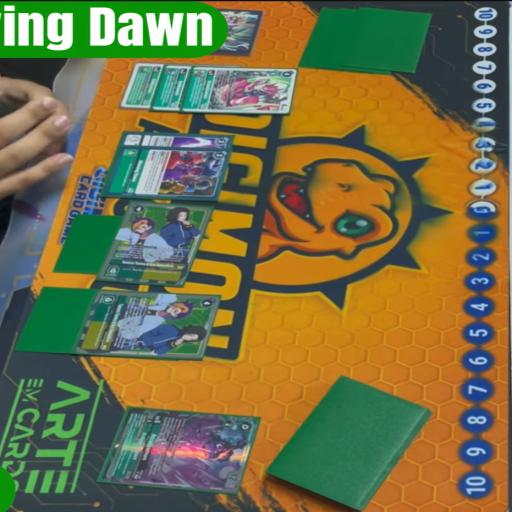card: (104, 404, 258, 496), (73, 291, 220, 362), (100, 203, 215, 286), (106, 146, 230, 203), (182, 62, 292, 115), (118, 130, 234, 151), (123, 56, 167, 108), (154, 60, 191, 112)
